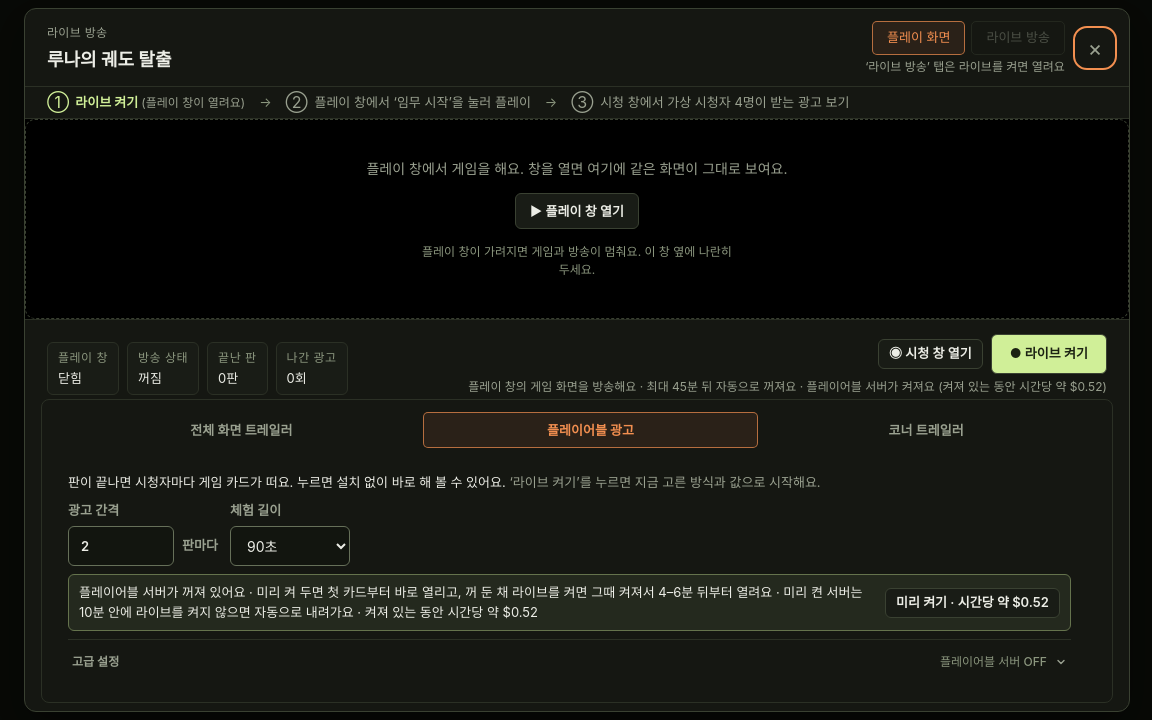
live control room: the main flow stays in sight, the rest folds under 고급 설정 › playable: 체험 길이 stays out; the server switch, its status and cost fold in, with its state in the header
Click the button with id "live-adv-head": (96, 662) [68,644,1071,680]
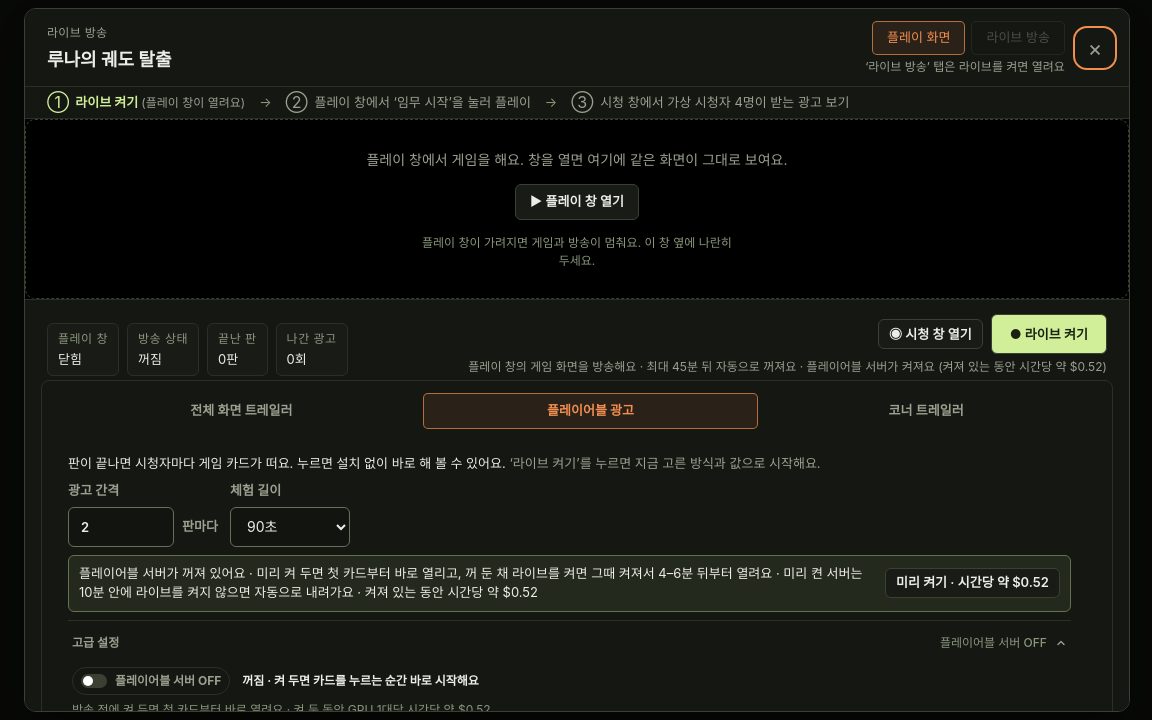
expect the button with id "live-adv-head" is expanded: met, box [68,625,1071,661]
Click the switch labelled "플레이어블 서버 OFF": (151, 681) [72,667,230,695]
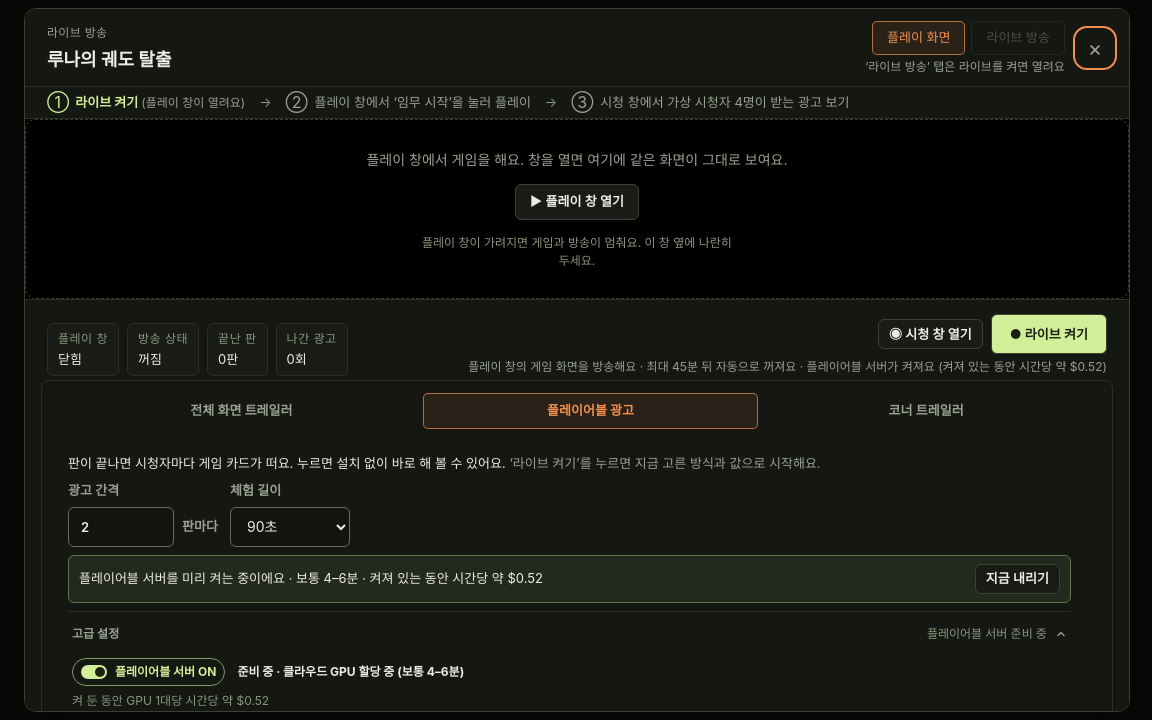
expect the element with id "live-adv-region" shows "시간당 약 $0.52": met, box [72,693,269,708]
expect the button with id "live-adv-head" shows "플레이어블 서버 준비 중": met, box [68,616,1071,652]
Click the switch labelled "플레이어블 서버 ON": (149, 672) [72,658,225,686]
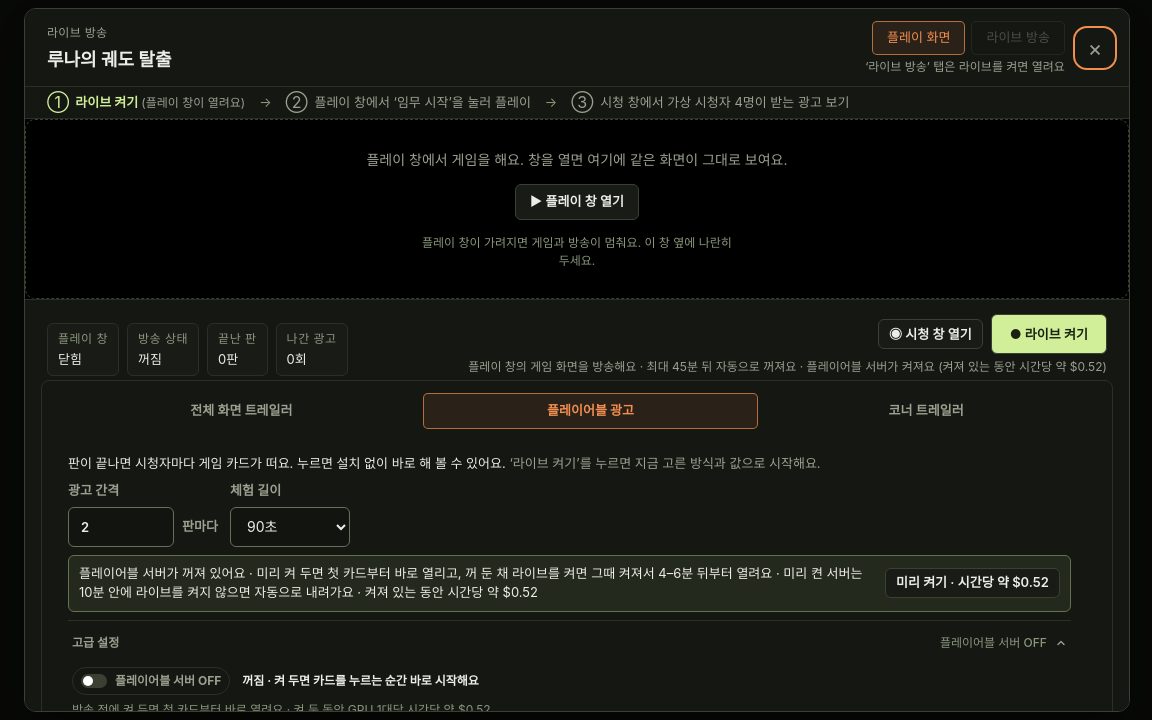
expect the text with class "standby-cost" shows "시간당 약 $0.52": met, box [294,702,491,712]
Click the switch labelled "플레이어블 서버 OFF": (151, 681) [72,667,230,695]
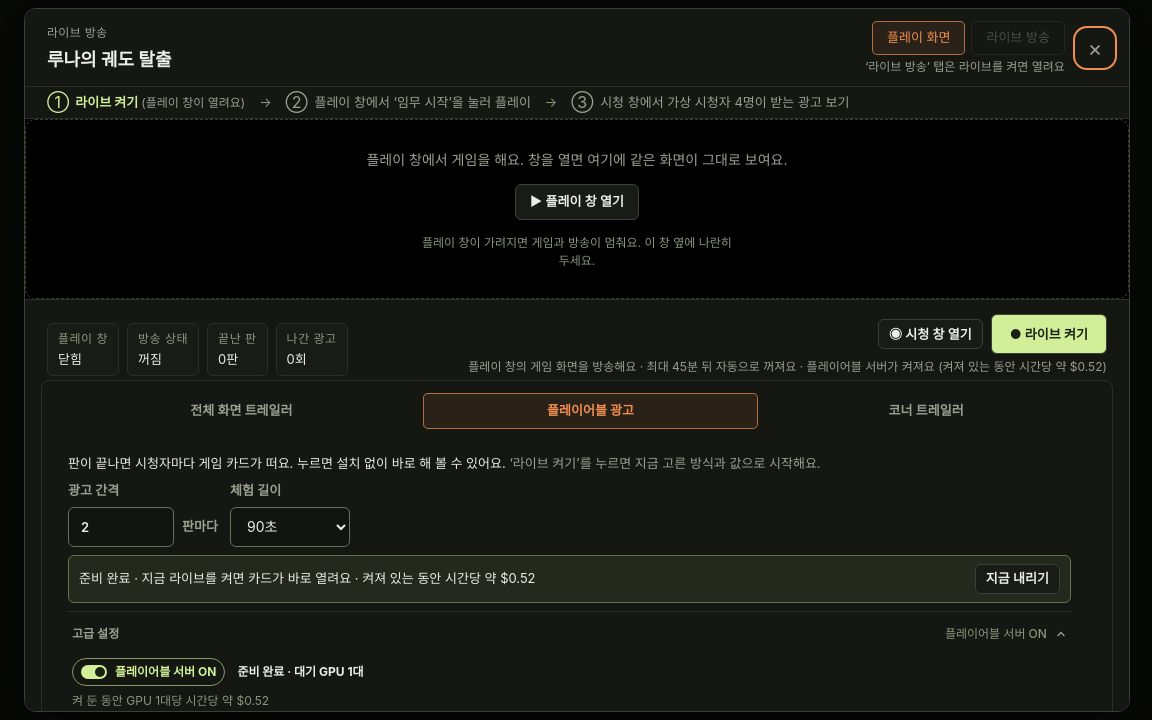
expect the button with id "live-adv-head" shows "플레이어블 서버 ON": met, box [68,616,1071,652]
